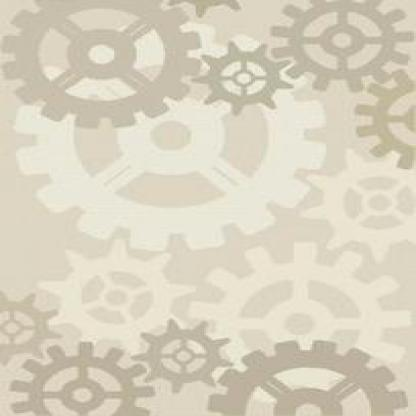FOD: (0, 0, 206, 130), (6, 336, 161, 414)
